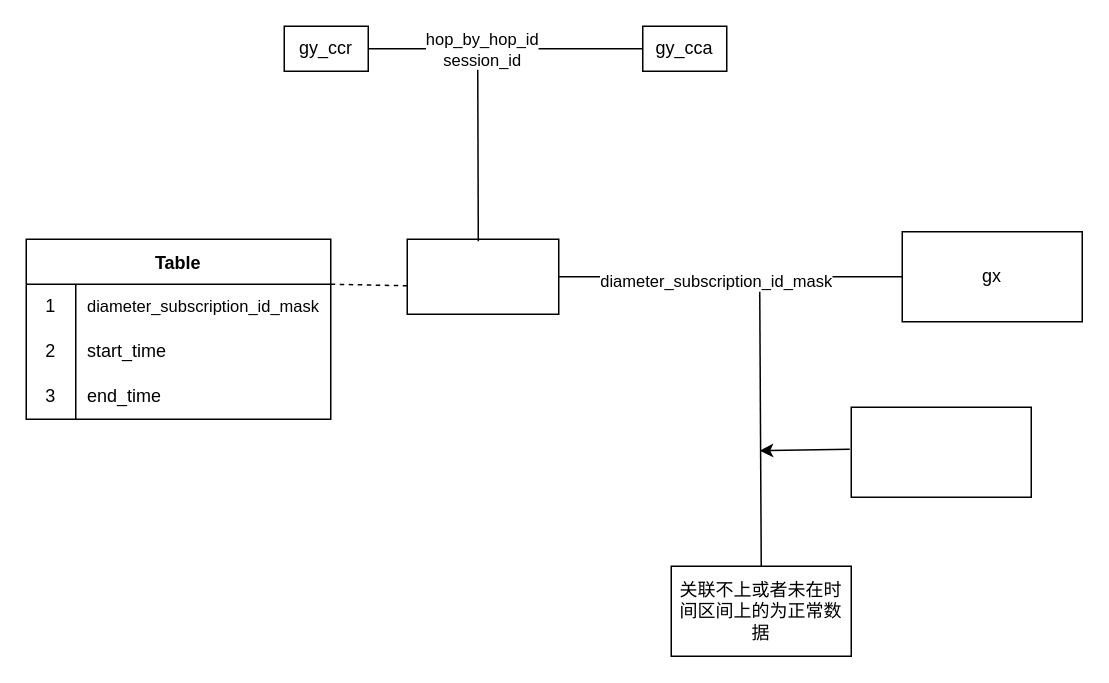
This 1109x683 diagram has some shape labels left out. The shapes that lost their labels are listed below. From the top down, each one's centre as x and y in pixels, then its label:
At point 482,276: "欠费用户及欠费时间区间".
At point 940,451: "谓词下沉实现精准匹配".
